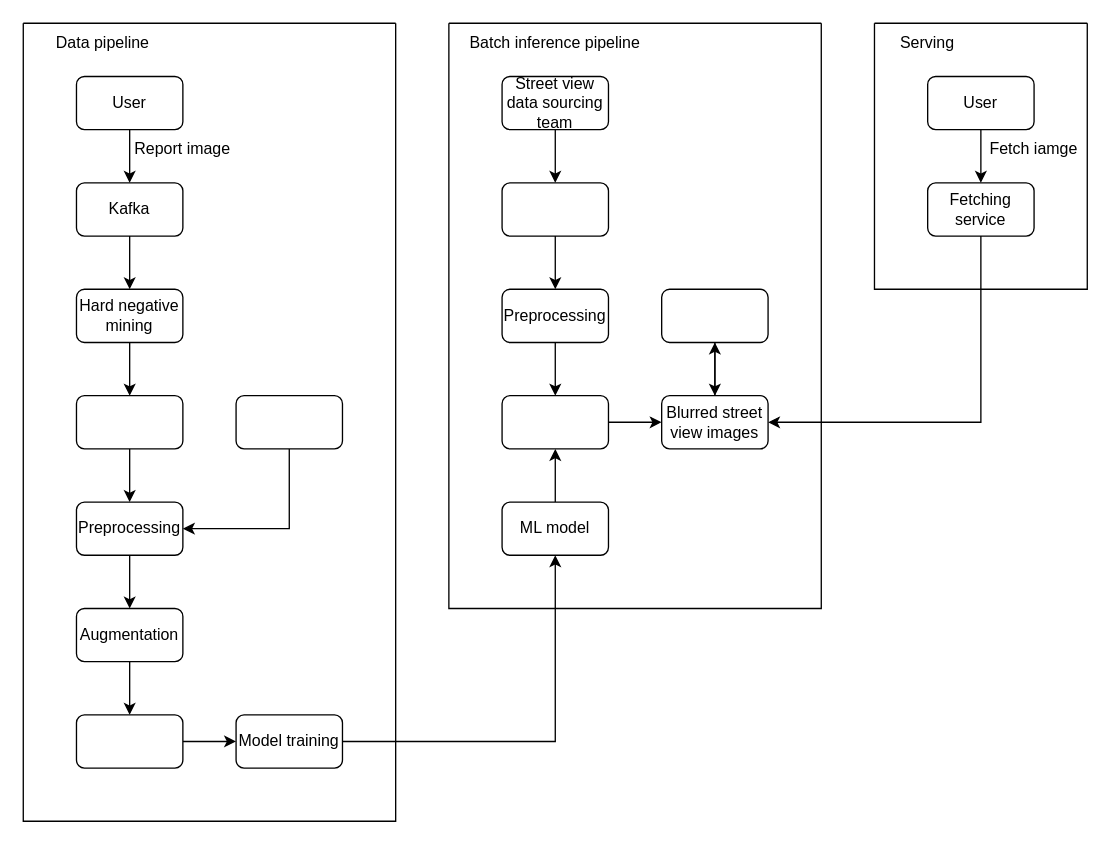
Image size: 1111x845. Some labels were removed from this diagram. The centre of each missing label's shape, as x and y in pixels:
Blurring service: the point at 554,421
Hard dataset: the point at 129,421
NMS: the point at 714,315
Original dataset: the point at 288,421
Preprocessed dataset: the point at 129,741
Raw street view images: the point at 554,209
